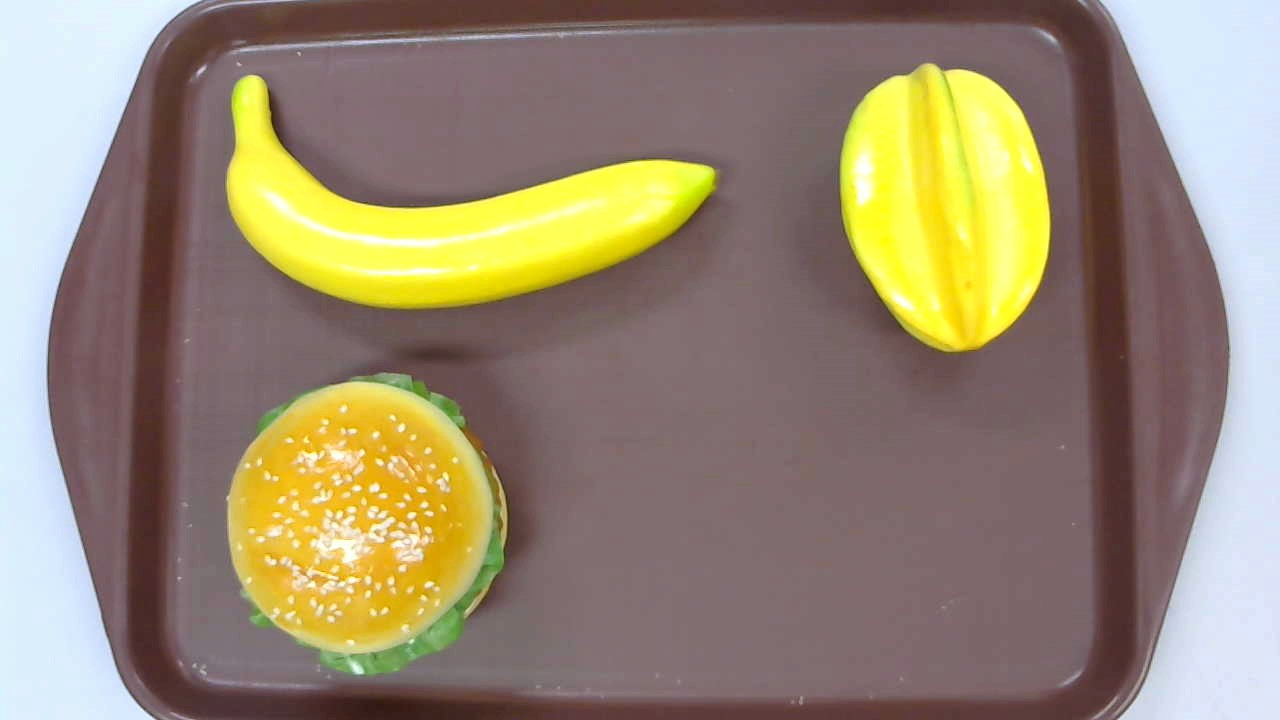banana: (226, 74, 720, 311)
hamburger: (225, 372, 510, 676)
star fruit: (839, 62, 1051, 355)
